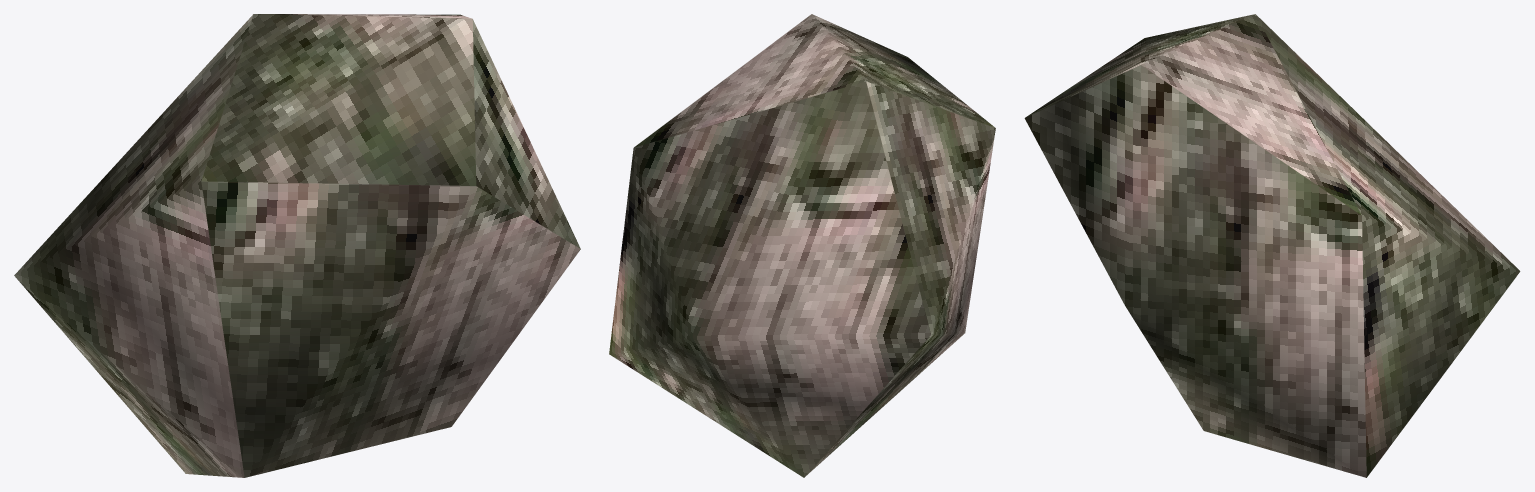
The model's file is BigStone02.glb.
3 renders of one model, left to right at view 1: azimuth 30°, elevation 25°; view 2: azimuth 150°, elevation 25°; view 3: azimuth 270°, elevation 25°, orthographic. The views are drawn at different scales.
Parts seen in each view (by area): view 1: model_BigStone02; view 2: model_BigStone02; view 3: model_BigStone02.
Boxes of the visible parts, x1,y1,x2,y2 form: model_BigStone02: (14, 14, 580, 477); model_BigStone02: (609, 14, 995, 477); model_BigStone02: (1024, 14, 1520, 477).
Bounding box in the file's own units: 0.2965 × 0.3187 × 0.3312.
Materials: 1 (1 with a texture image).
